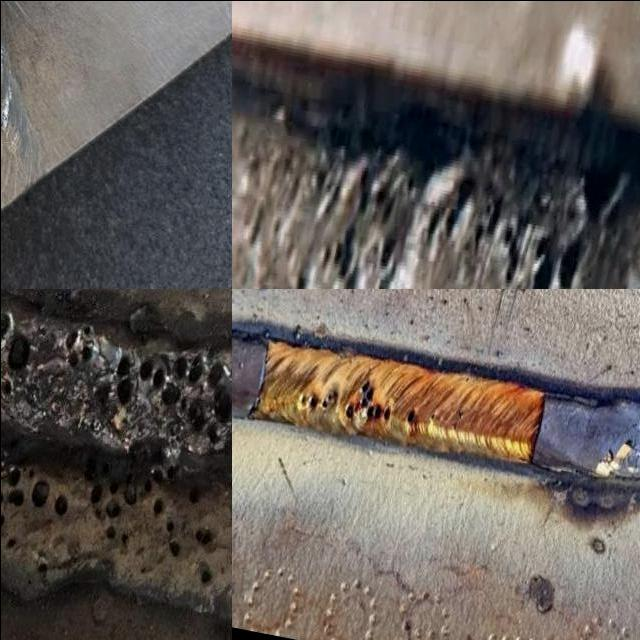defect: (236, 147, 423, 288), (417, 176, 589, 288), (79, 450, 216, 588), (108, 342, 231, 449), (0, 453, 72, 548), (0, 301, 41, 407), (341, 371, 394, 426), (58, 311, 107, 368), (33, 543, 57, 588), (297, 387, 337, 411), (450, 409, 464, 432), (405, 403, 418, 426), (0, 111, 10, 132), (426, 411, 436, 425)
